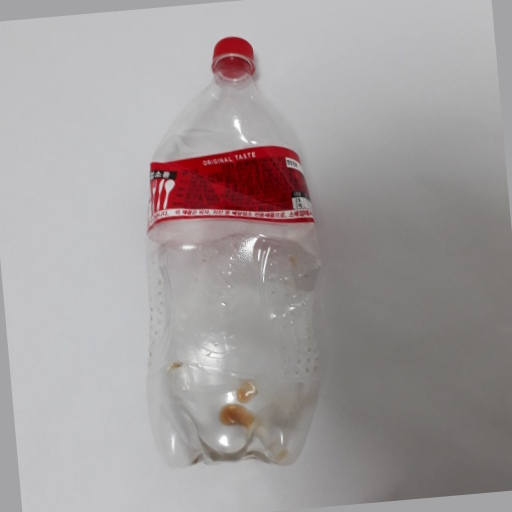Plastic_0: (141, 33, 326, 469)
